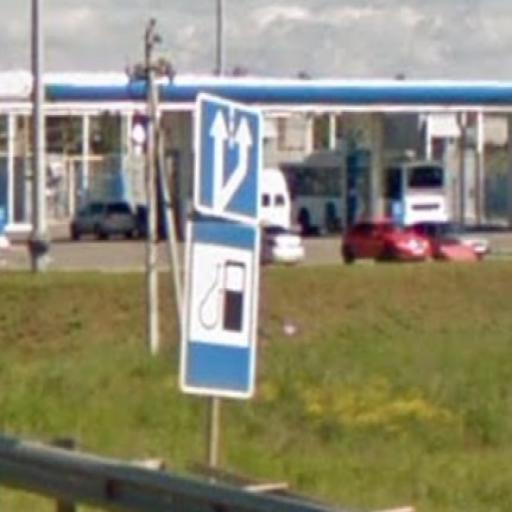traffic_sign: (178, 203, 264, 403)
